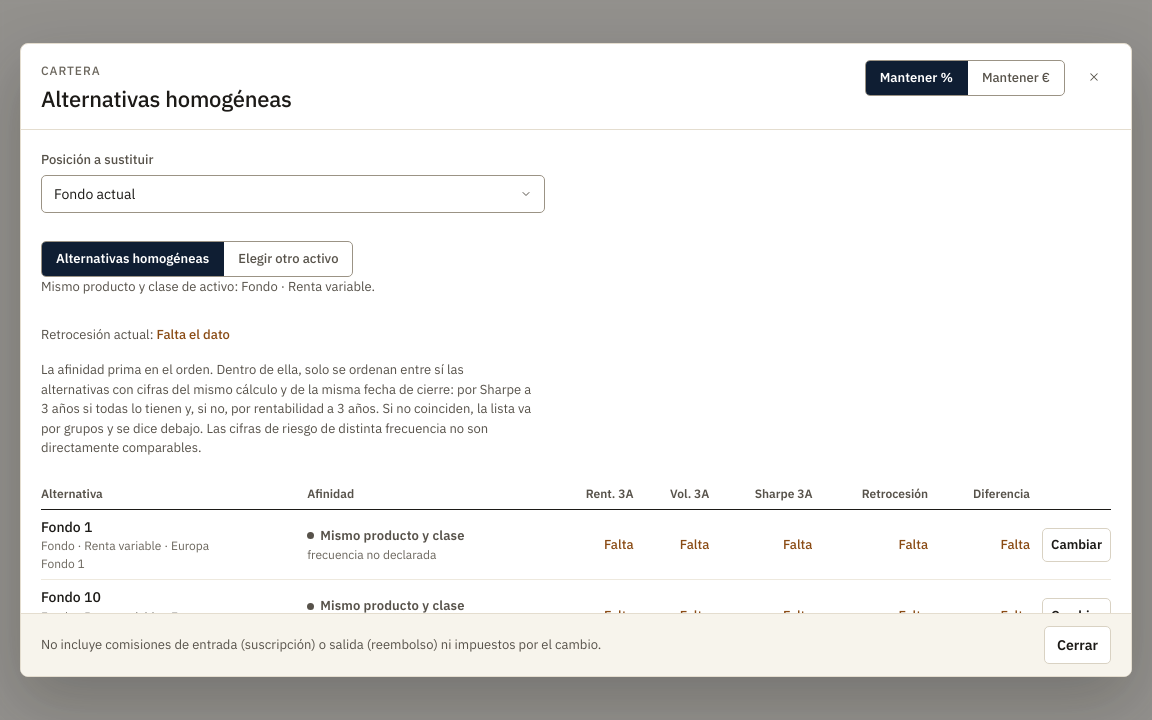
Test: sustituir una posición › la búsqueda libre permite recorrer más de veinte resultados
Click the button "Elegir otro activo" at (288, 259), box x1=223 y1=242 x2=352 y2=276
(page scrolled)
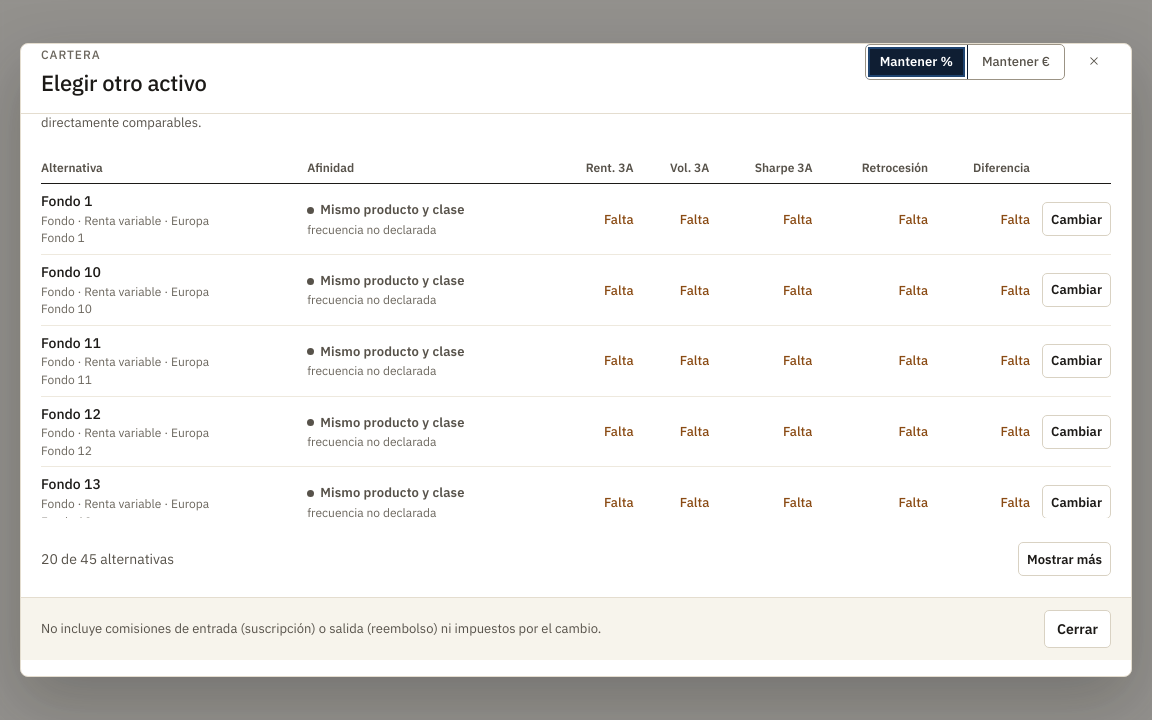
Click the button "Mostrar más" at (1065, 560), box x1=1018 y1=542 x2=1111 y2=576
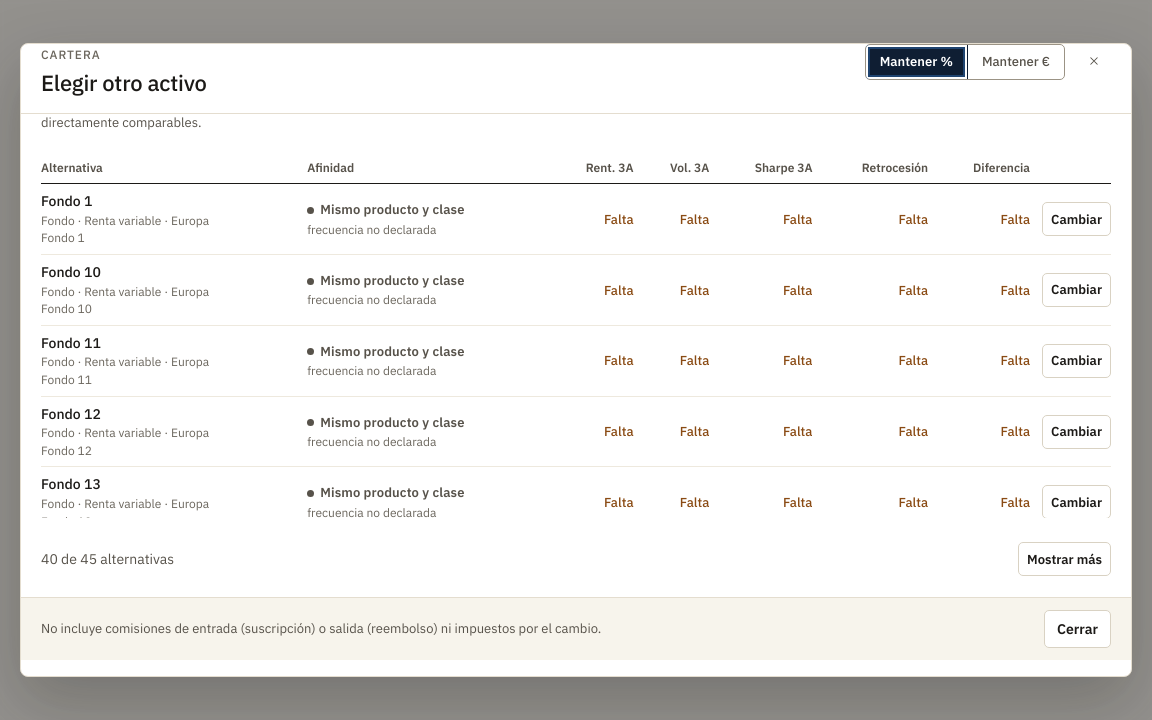
Click the button "Mostrar más" at (1065, 560), box x1=1018 y1=542 x2=1111 y2=576
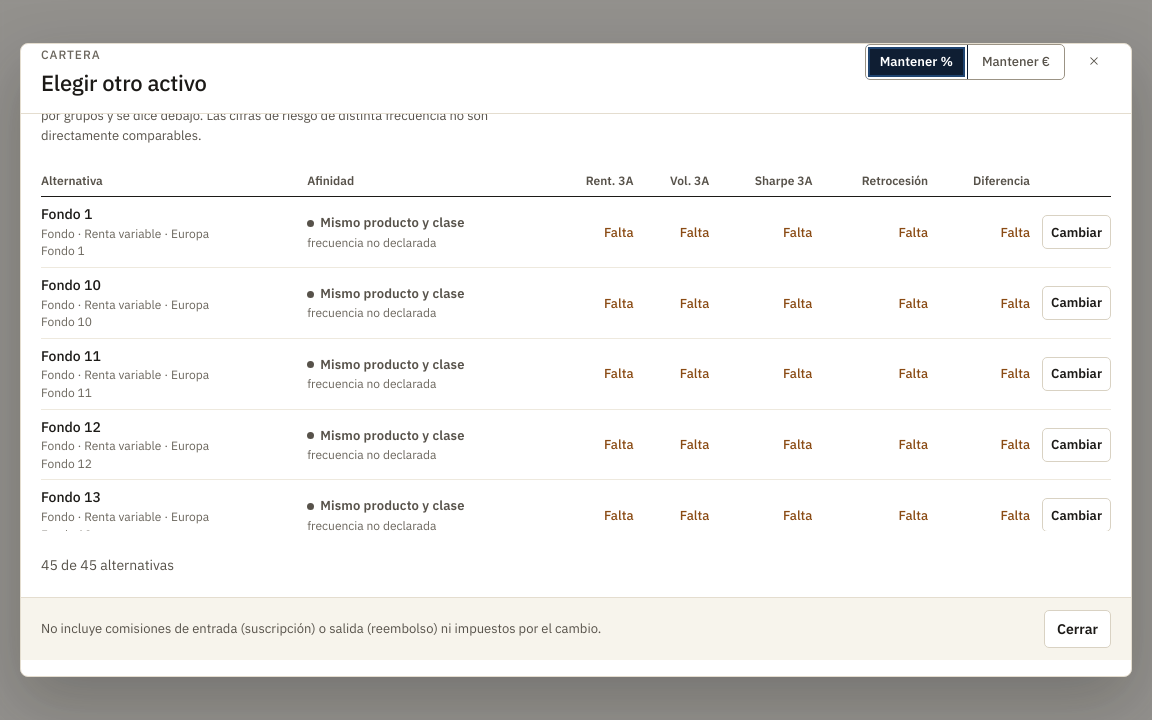
Expected: the text "45 de 45 alternativas" is shown, x1=41 y1=556 x2=174 y2=576
